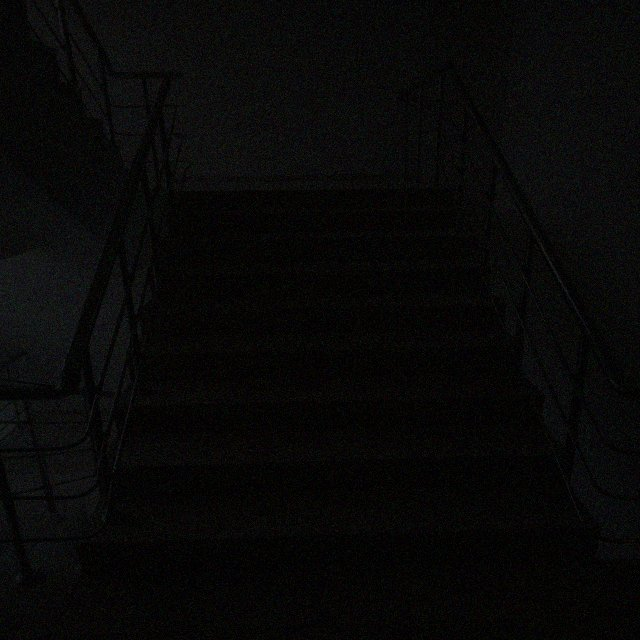stair: (0, 0, 621, 570)
